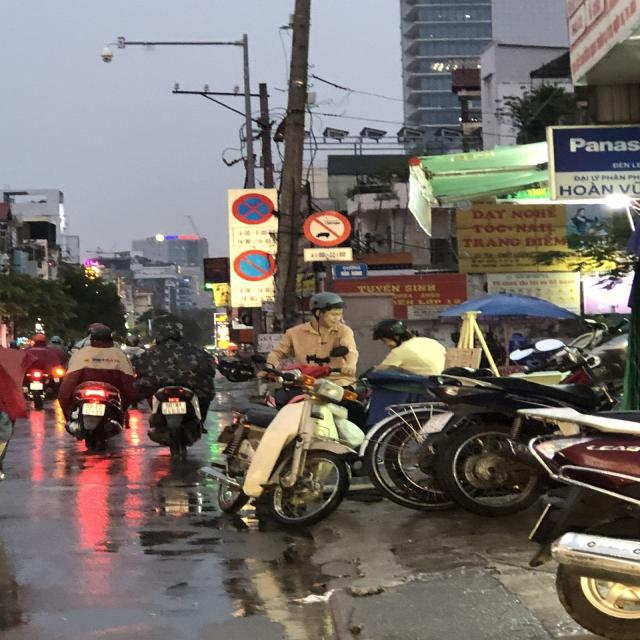Bien bao cam dung xe va do xe: (230, 191, 277, 226)
Bien bao cam xe oto khach va xe oto tai: (302, 209, 352, 247)
